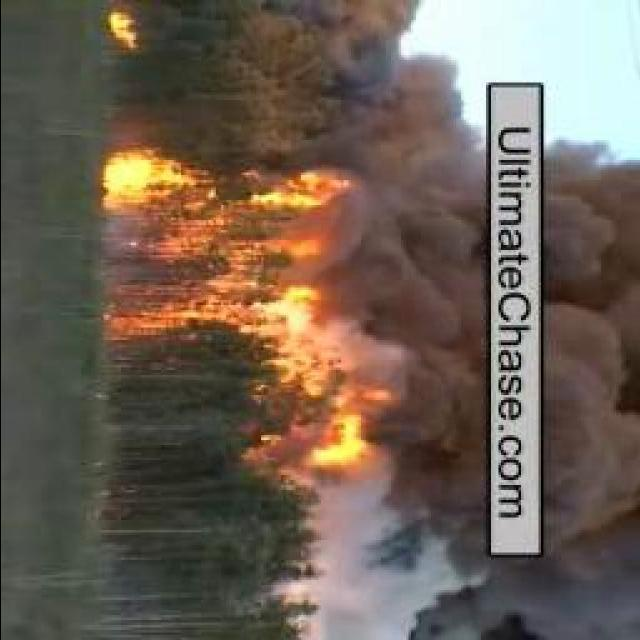Fire: (96, 148, 360, 336), (259, 370, 395, 472), (108, 12, 142, 46)
